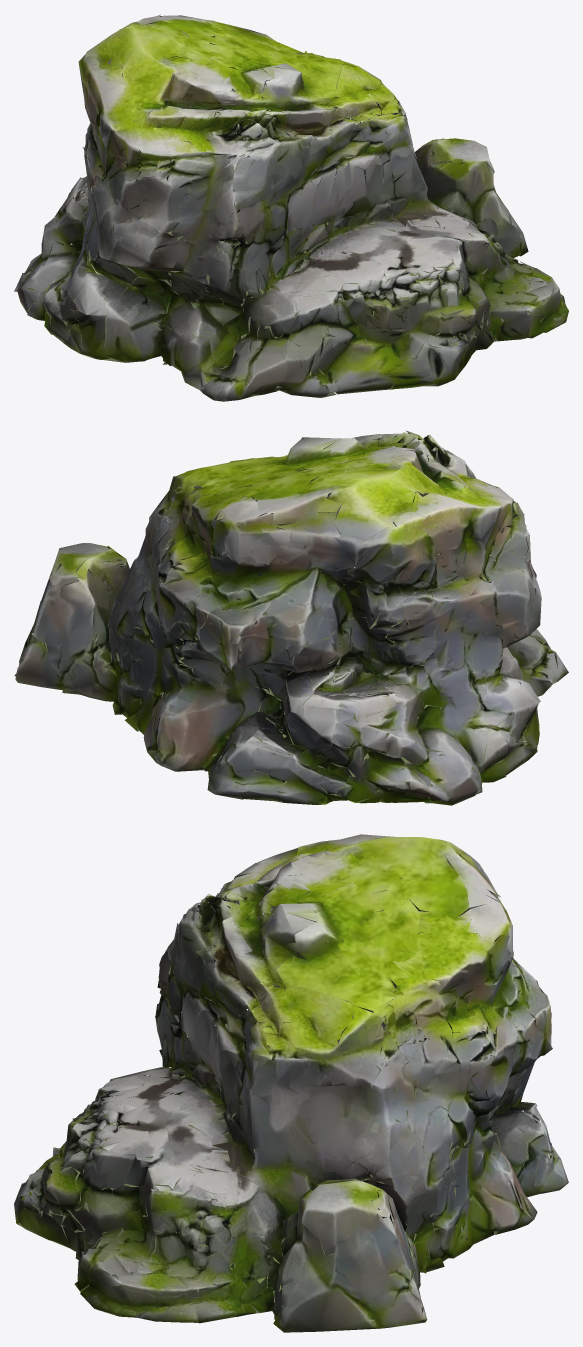
File: rock_town.glb
3 views of the same model, one above another, from view 1: azimuth 30°, elevation 25°; view 2: azimuth 150°, elevation 25°; view 3: azimuth 270°, elevation 25° (orthographic). The views are drawn at different scales.
Visible parts, largest first — view 1: rock; view 2: rock; view 3: rock.
Boxes of the visible parts, bbox=[...] form: rock: bbox=[14, 14, 568, 401]; rock: bbox=[14, 430, 568, 805]; rock: bbox=[14, 834, 568, 1332].
Bounding box in the file's own units: 1.9 × 1.07 × 1.74.
Materials: 1 (1 with a texture image).
